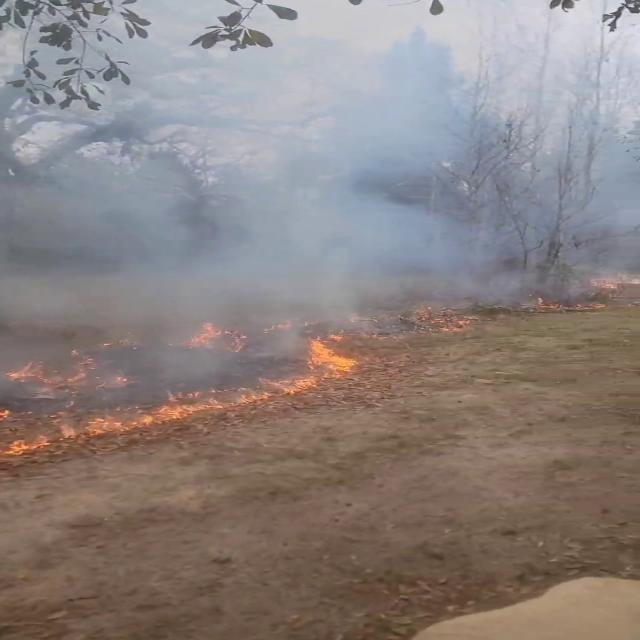Fire: (48, 389, 262, 440), (294, 328, 366, 393)
Smoke: (6, 6, 638, 404)
